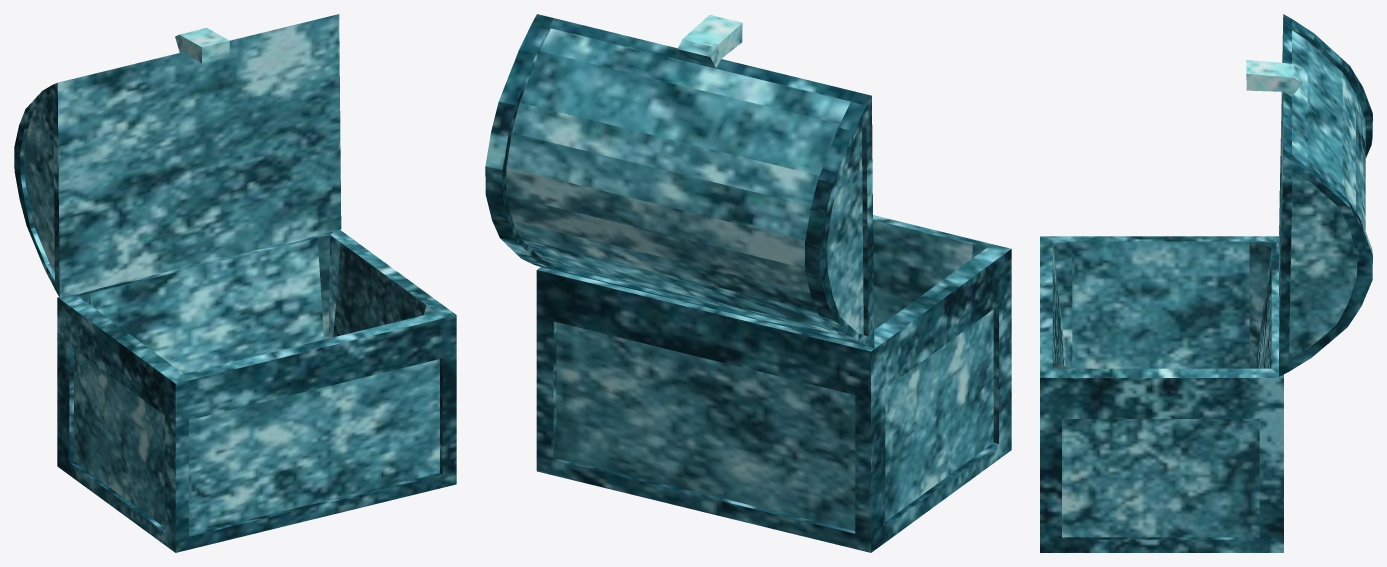
The model's file is OpenTier4Chest.glb.
3 views of the same model, side by side, from view 1: azimuth 30°, elevation 25°; view 2: azimuth 150°, elevation 25°; view 3: azimuth 270°, elevation 25° (orthographic). The views are drawn at different scales.
Parts seen in each view (by area): view 1: OpenTier4Chest; view 2: OpenTier4Chest; view 3: OpenTier4Chest.
Boxes of the visible parts, box(x1,y1,x2,y2) form: OpenTier4Chest: box(14, 14, 456, 552); OpenTier4Chest: box(485, 14, 1011, 552); OpenTier4Chest: box(1040, 14, 1372, 552).
Size of the model in its own units: 0.686 by 0.9352 by 0.6799.
Materials: 3 (3 with a texture image).
